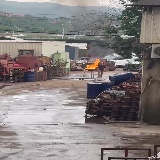fire: (85, 59, 100, 69)
